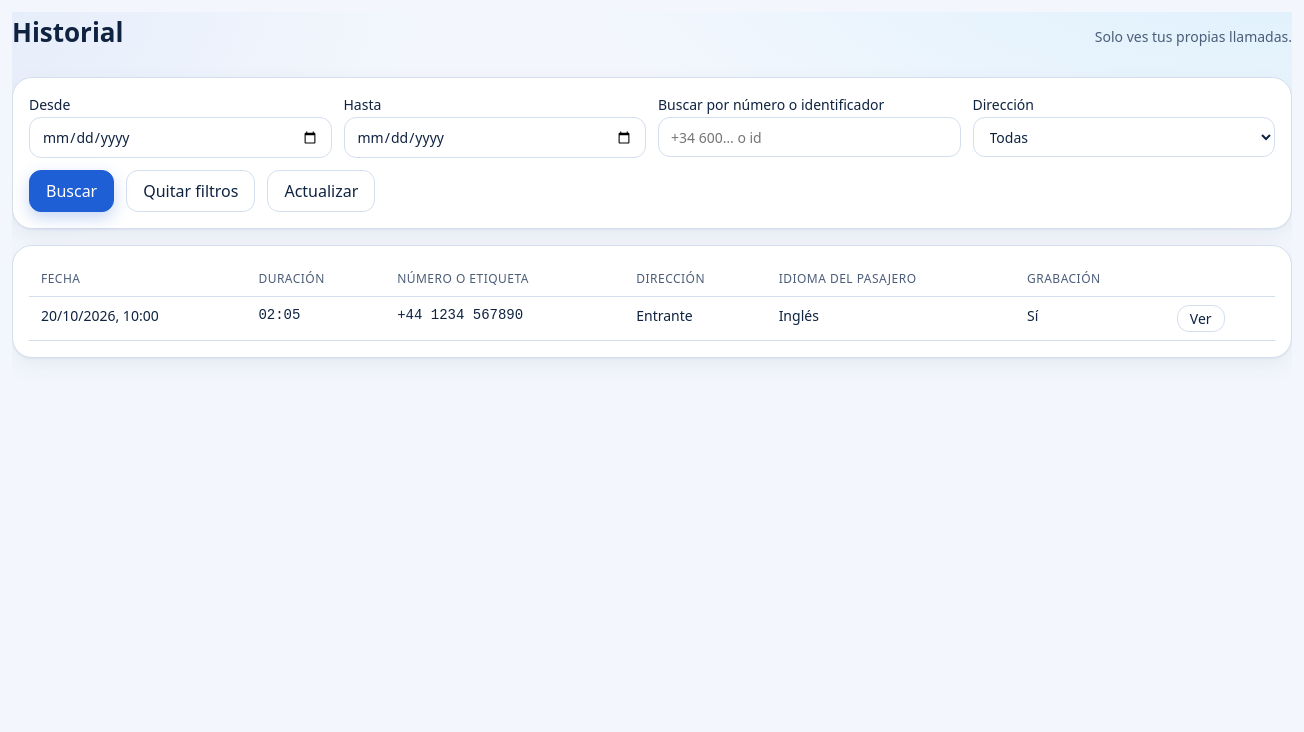
Test: <HistoryPage> › explains a 404 on the detail as "not yours"
Click the button "Ver" at (1201, 318), box x1=1177 y1=305 x2=1225 y2=332
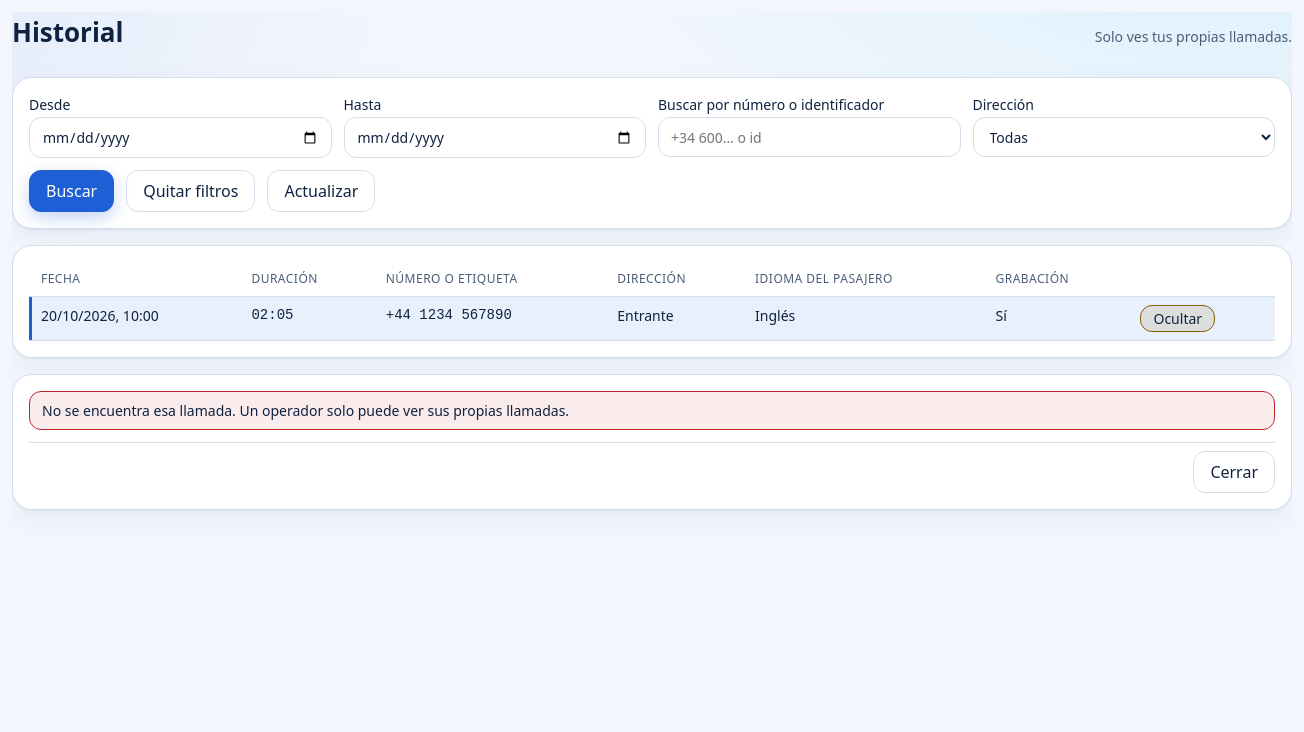
Now the message shows "Un operador solo puede ver sus propias llamadas", box x1=42 y1=401 x2=569 y2=420
